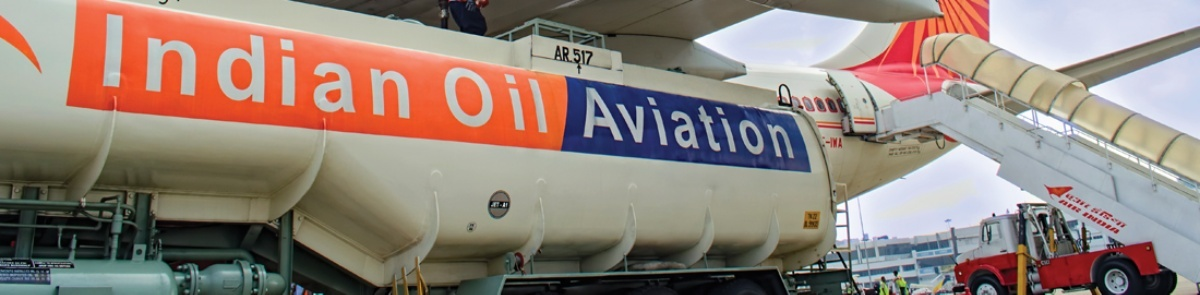text: (113, 13, 128, 121), (129, 13, 144, 121), (145, 13, 160, 121), (161, 13, 176, 121), (177, 13, 192, 121), (193, 13, 208, 121), (209, 13, 224, 121), (225, 13, 240, 121), (241, 13, 256, 121), (257, 13, 272, 121), (273, 13, 288, 121), (289, 13, 304, 121), (305, 13, 320, 121), (321, 13, 336, 121), (337, 13, 352, 121), (353, 13, 368, 121), (369, 13, 384, 121), (385, 13, 400, 121), (593, 86, 608, 160), (609, 86, 624, 160), (625, 86, 640, 160), (641, 86, 656, 160), (657, 86, 672, 160), (673, 86, 688, 160), (689, 86, 704, 160), (705, 86, 720, 160), (721, 86, 736, 160), (737, 86, 752, 160), (753, 86, 768, 160), (769, 86, 784, 160), (449, 63, 464, 136), (465, 63, 480, 136), (481, 63, 496, 136), (497, 63, 512, 136), (513, 63, 528, 136), (529, 63, 544, 136), (401, 13, 411, 121), (103, 13, 112, 121), (785, 86, 797, 160), (584, 86, 592, 160), (440, 63, 448, 136), (1073, 198, 1088, 235), (1089, 198, 1104, 235), (1105, 198, 1120, 235), (1073, 193, 1088, 230), (1089, 193, 1104, 230), (1105, 193, 1120, 230), (545, 63, 551, 136), (1062, 198, 1072, 235), (1121, 193, 1129, 230), (577, 47, 592, 66), (561, 44, 571, 64), (17, 270, 32, 282), (33, 270, 48, 282), (833, 136, 845, 150), (4, 270, 16, 282), (33, 261, 48, 270), (49, 261, 64, 270), (17, 262, 33, 270), (554, 44, 560, 64), (803, 221, 816, 230), (1069, 193, 1072, 230), (3, 262, 16, 270), (65, 261, 76, 270), (825, 136, 832, 150), (807, 212, 816, 221), (572, 47, 576, 66), (49, 270, 53, 282), (1121, 198, 1122, 235), (817, 221, 820, 230), (593, 47, 594, 66), (817, 212, 819, 221)
